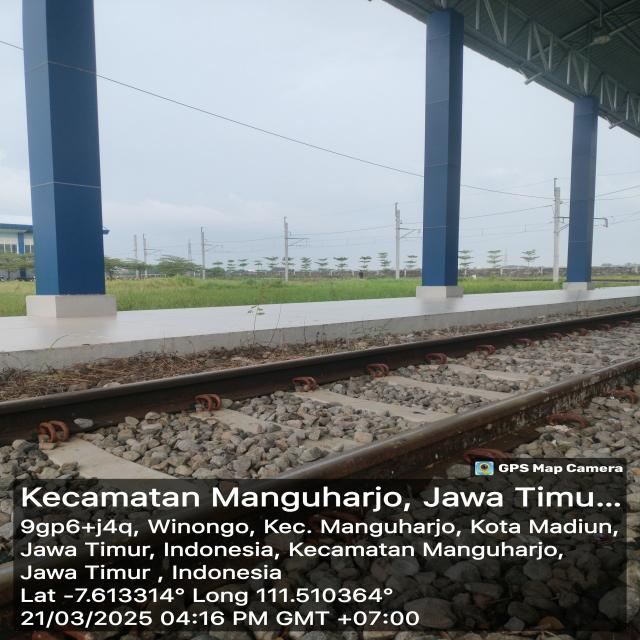rail-detection: (0, 309, 640, 444), (283, 355, 640, 480)
